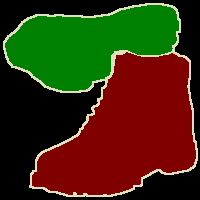shoe: (30, 50, 197, 196), (4, 4, 180, 92)
